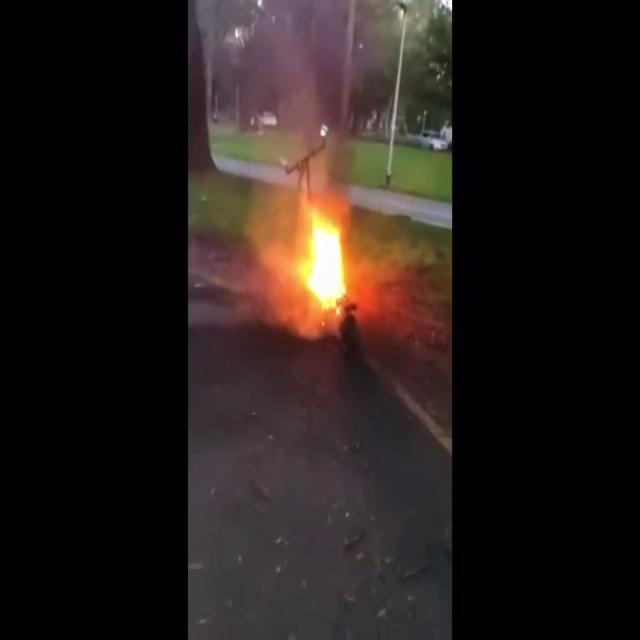Fire: (300, 201, 350, 311)
Smoke: (191, 0, 375, 175)
